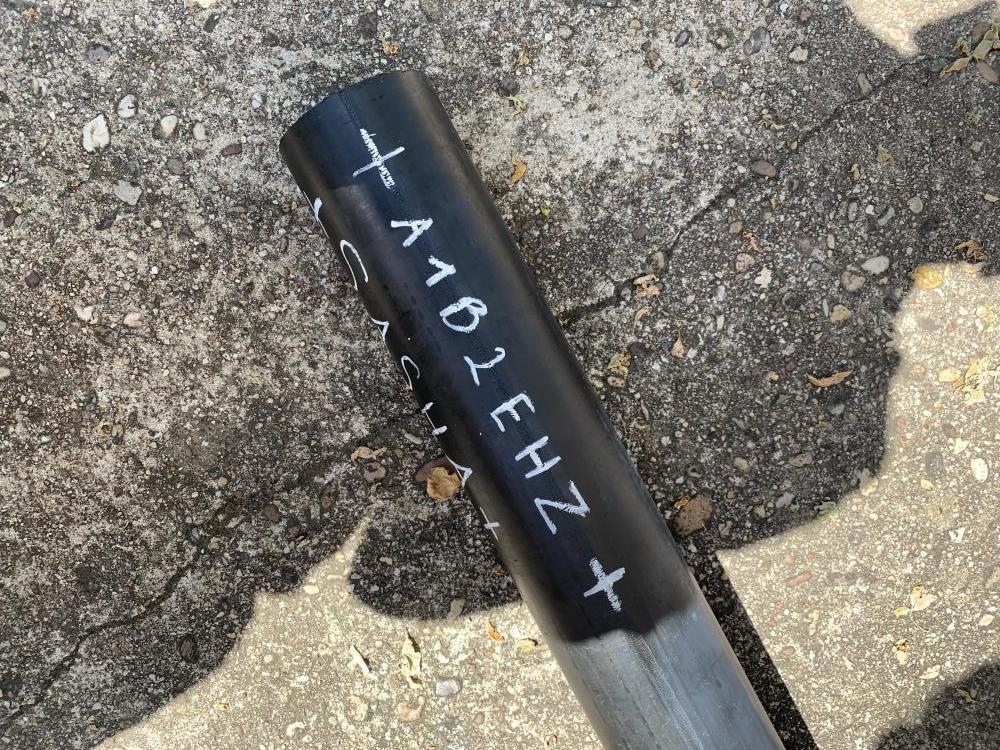+: (352, 128, 406, 190), (585, 558, 625, 612)
1: (426, 253, 457, 290)
2: (462, 346, 508, 386)
A: (389, 219, 436, 247)
B: (438, 294, 489, 334)
E: (490, 392, 535, 435)
H: (516, 436, 563, 480)
Z: (535, 482, 592, 536)
